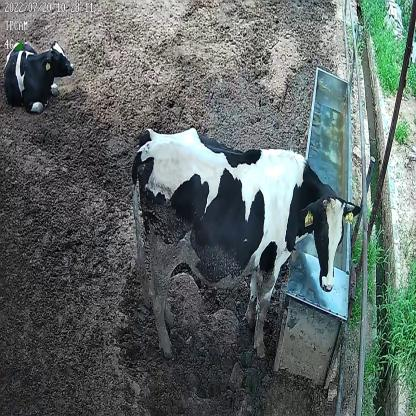cow: (129, 128, 361, 359), (4, 39, 76, 116)
